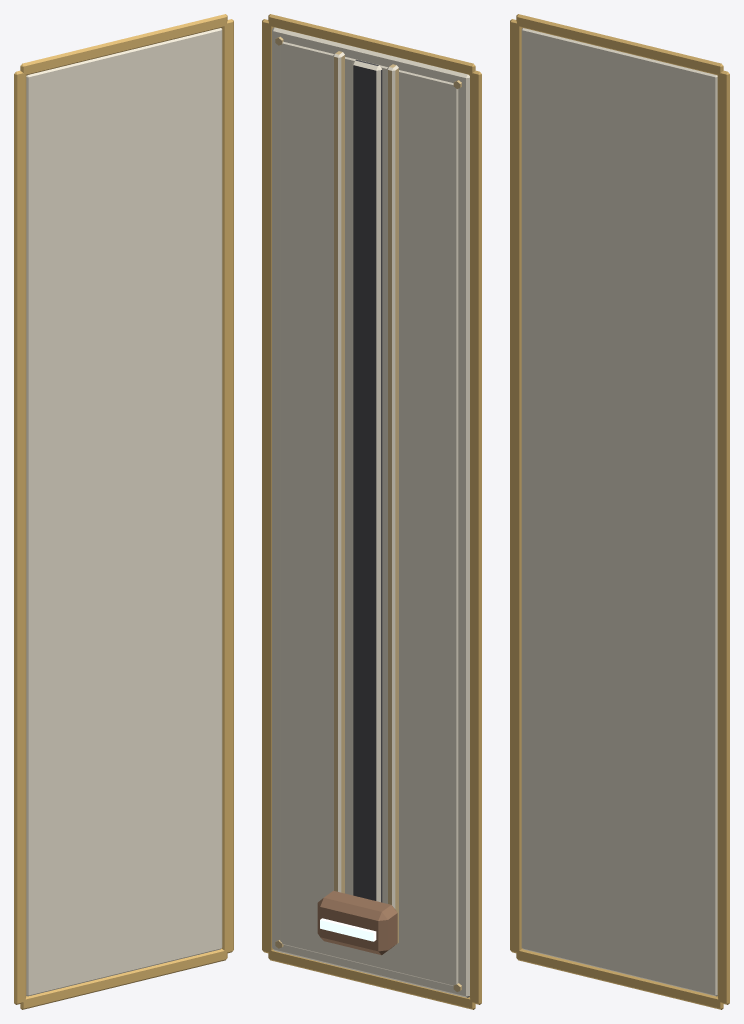
Rendered from Ctl_Slider_1x4.fbx.
The picture shows the model from 3 angles, left to right: view 1: azimuth 30°, elevation 25°; view 2: azimuth 150°, elevation 25°; view 3: azimuth 330°, elevation 25°; orthographic projection.
Parts seen in each view (by area): view 1: Ctl_Slider_1x4, Ctl_Slider_1x4_Frame; view 2: Ctl_Slider_1x4, Ctl_Slider_1x4_Frame, Moving.015; view 3: Ctl_Slider_1x4, Ctl_Slider_1x4_Frame.
Boxes of the visible parts, box(x1,y1,x2,y2) form: Ctl_Slider_1x4: box(26, 28, 222, 996); Ctl_Slider_1x4_Frame: box(14, 14, 233, 1009); Ctl_Slider_1x4: box(272, 27, 469, 997); Ctl_Slider_1x4_Frame: box(262, 14, 481, 1009); Moving.015: box(317, 890, 397, 955); Ctl_Slider_1x4: box(521, 28, 717, 996); Ctl_Slider_1x4_Frame: box(510, 14, 729, 1009).
Size of the model in its own units: 1.06 by 4.36 by 0.22.
